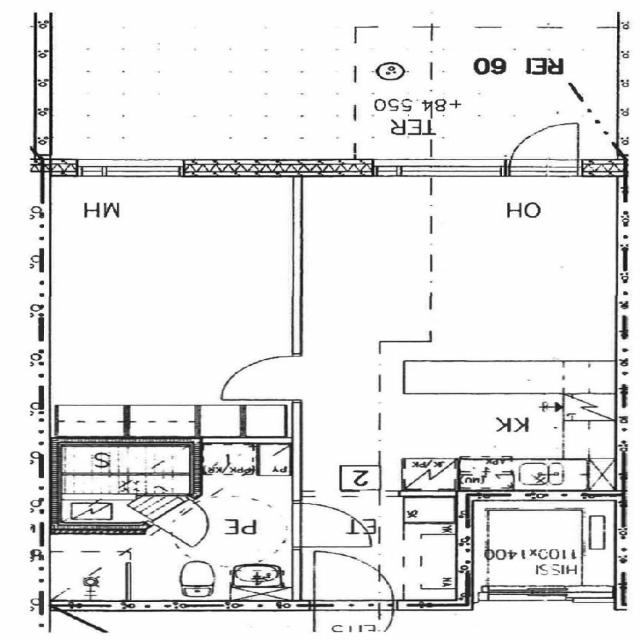door: (314, 552, 392, 610), (149, 496, 231, 547), (510, 117, 577, 176), (220, 356, 300, 399), (292, 504, 371, 546), (314, 600, 392, 640)
